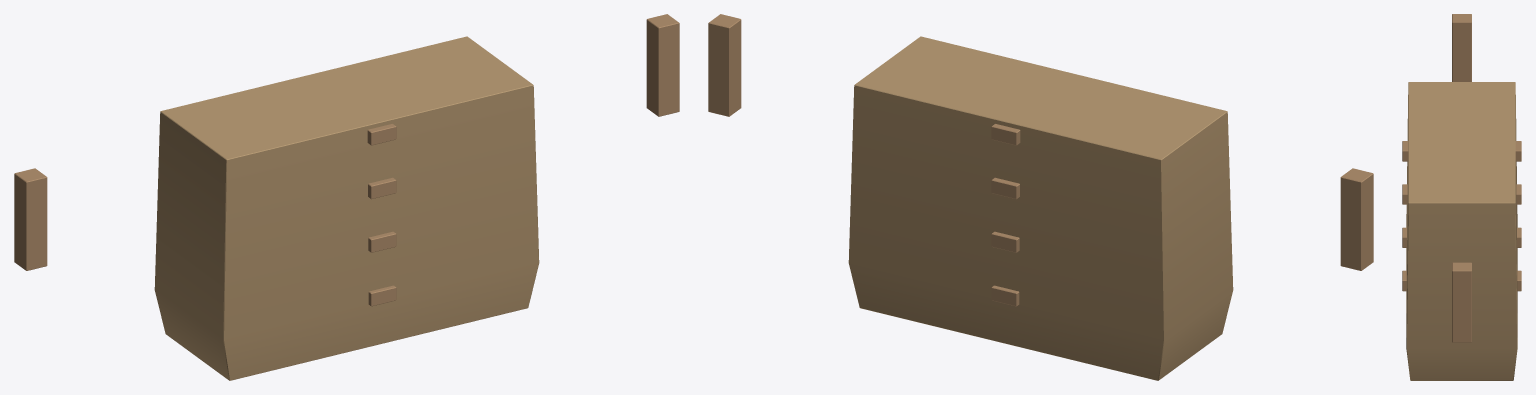
Rendered from IT_wood_chestplate.fbx.
The picture shows the model from 3 angles, left to right: view 1: azimuth 30°, elevation 25°; view 2: azimuth 150°, elevation 25°; view 3: azimuth 270°, elevation 25°; orthographic projection. The views are drawn at different scales.
Parts seen in each view (by area): view 1: IT_wood_chestplate; view 2: IT_wood_chestplate; view 3: IT_wood_chestplate.
Boxes of the visible parts, x1,y1,x2,y2 form: IT_wood_chestplate: (14,14,679,380); IT_wood_chestplate: (708,14,1373,380); IT_wood_chestplate: (1402,14,1521,380).
Bounding box in the file's own units: 1.53 × 0.5 × 0.3.
